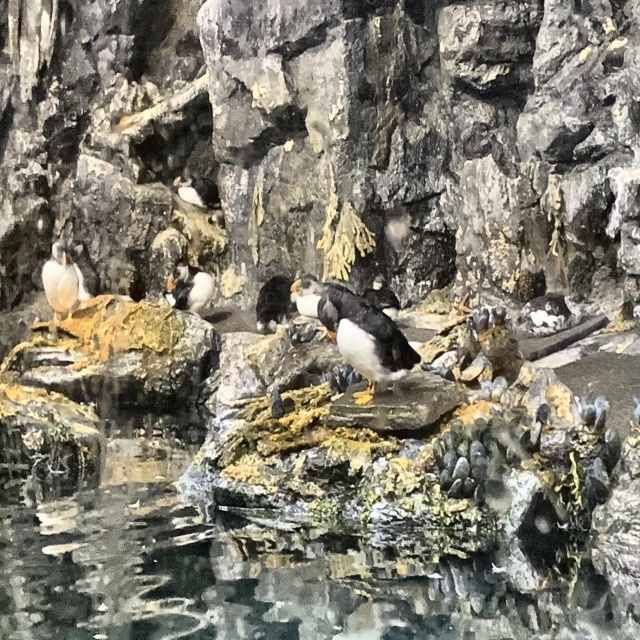puffin: (325, 295, 422, 411), (290, 274, 369, 333), (39, 239, 82, 327), (163, 259, 215, 320), (172, 169, 223, 215), (69, 236, 103, 304), (361, 273, 401, 326)
